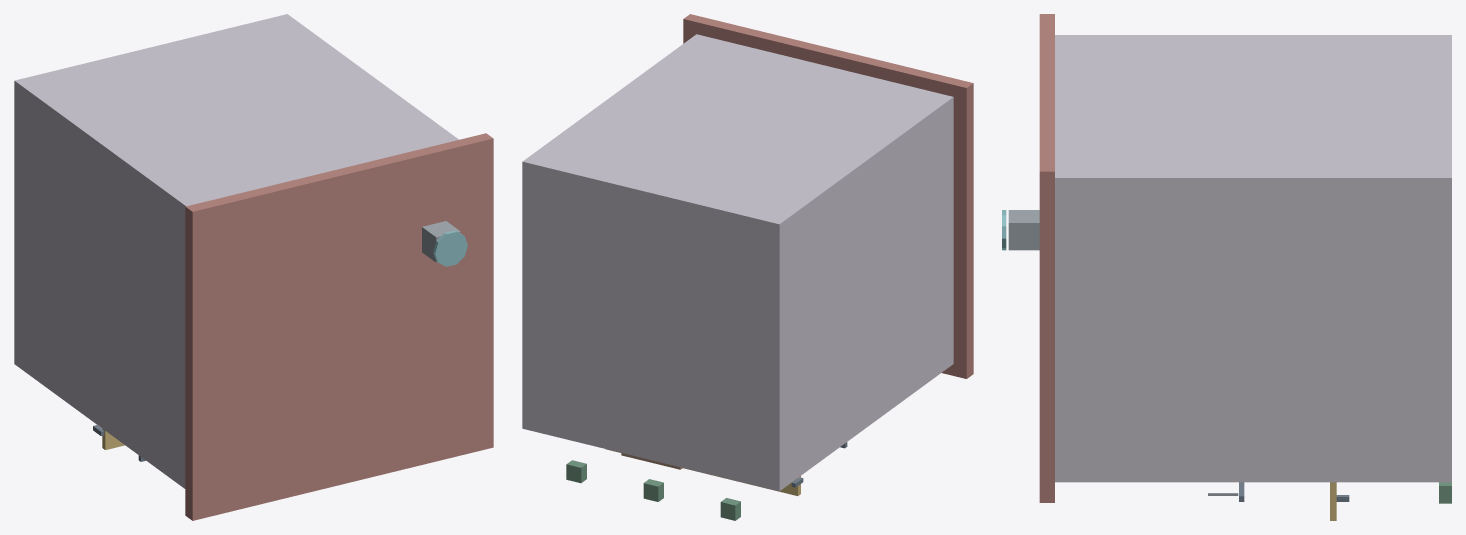
Rendered from roof_garden_home.glb.
3 views of the same model, side by side, from view 1: azimuth 30°, elevation 25°; view 2: azimuth 150°, elevation 25°; view 3: azimuth 270°, elevation 25° (orthographic). The views are drawn at different scales.
Visible parts, largest first — view 1: roof, wall4, glass, metal2; view 2: wall4, roof, green; view 3: wall4, roof, metal2.
Boxes of the visible parts, x1,y1,x2,y2 form: roof: (185, 133, 493, 520); wall4: (14, 14, 458, 488); glass: (433, 230, 467, 266); metal2: (422, 221, 460, 262); wall4: (522, 34, 953, 491); roof: (683, 14, 973, 378); green: (566, 460, 740, 520); wall4: (1055, 35, 1451, 482); roof: (1039, 14, 1054, 502); metal2: (1008, 210, 1238, 495).
Bounding box in the file's own units: 8.64 × 9.58 × 10.43.
